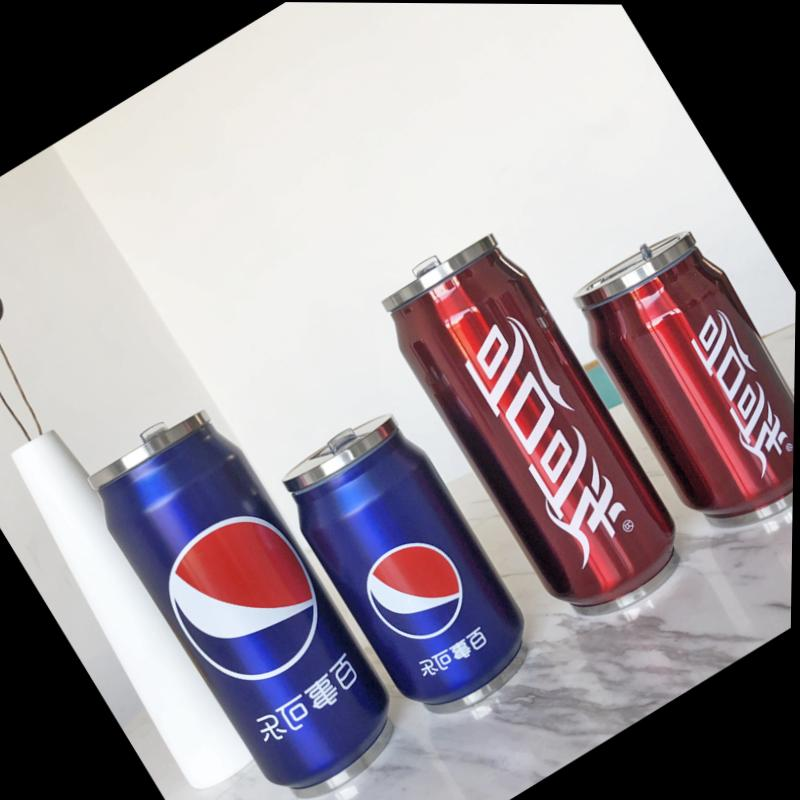metal: (93, 412, 390, 787), (384, 235, 673, 606), (0, 419, 250, 799), (284, 417, 523, 711), (576, 232, 792, 516)
